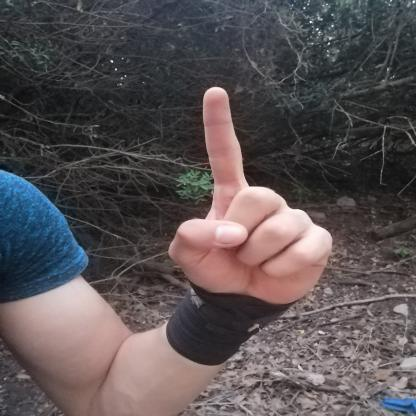BAA: (149, 74, 346, 315)
